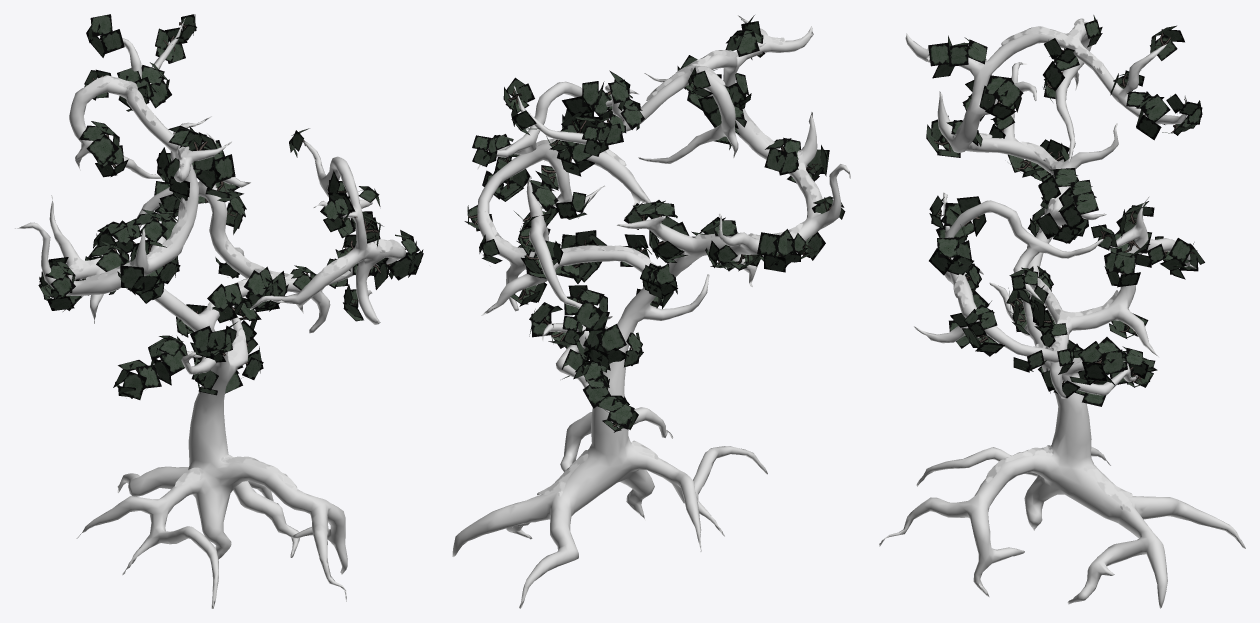
The model's file is OakTree2.fbx.
The picture shows the model from 3 angles, left to right: view 1: azimuth 30°, elevation 25°; view 2: azimuth 150°, elevation 25°; view 3: azimuth 270°, elevation 25°; orthographic projection. The views are drawn at different scales.
Visible parts, largest first — view 1: CurvyOak_1, CurvyOak_1_Leaves, CurvyOak_1_Moss; view 2: CurvyOak_1, CurvyOak_1_Leaves, CurvyOak_1_Moss; view 3: CurvyOak_1, CurvyOak_1_Leaves, CurvyOak_1_Moss.
Part boxes in pixels (x1,y1,x2,y2): CurvyOak_1: (15,15,406,608); CurvyOak_1_Leaves: (38,14,423,399); CurvyOak_1_Moss: (68,75,401,490); CurvyOak_1: (452,15,850,608); CurvyOak_1_Leaves: (464,15,845,432); CurvyOak_1_Moss: (484,33,818,496); CurvyOak_1: (879,22,1245,608); CurvyOak_1_Leaves: (926,15,1204,406); CurvyOak_1_Moss: (926,18,1132,511).
Size of the model in its own units: 348 by 463 by 298.
